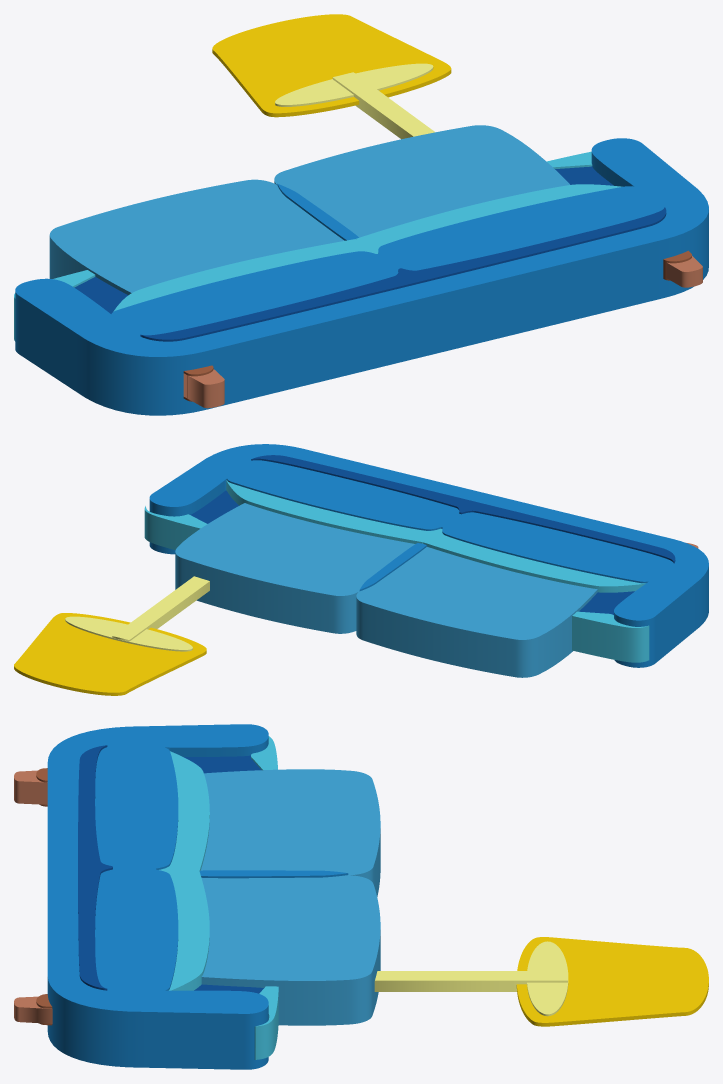
The model's file is emoji_u1f6cb.glb.
3 renders of one model, top to bottom at view 1: azimuth 30°, elevation 25°; view 2: azimuth 150°, elevation 25°; view 3: azimuth 270°, elevation 25°, orthographic. The views are drawn at different scales.
Visible parts, largest first — view 1: emoji_u1f6cb; view 2: emoji_u1f6cb; view 3: emoji_u1f6cb.
Boxes of the visible parts, x1,y1,x2,y2 form: emoji_u1f6cb: [14, 14, 708, 415]; emoji_u1f6cb: [14, 444, 708, 695]; emoji_u1f6cb: [14, 724, 708, 1069].
Size of the model in its own units: 0.0336 by 0.0032 by 0.0338.
